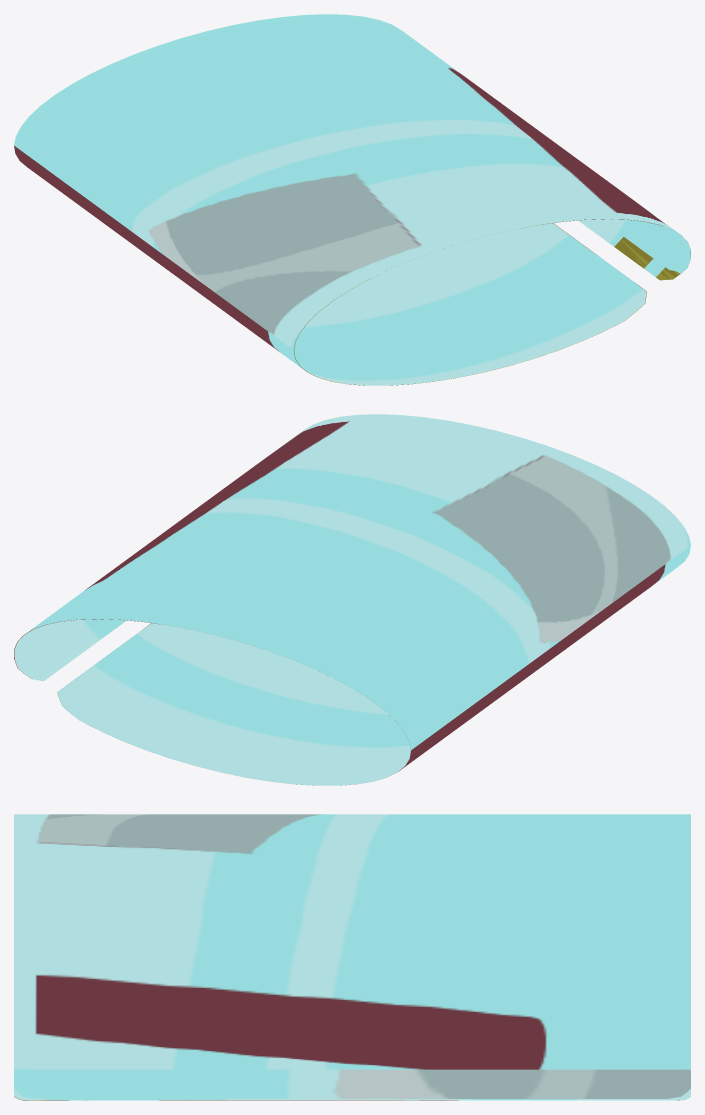
Rendered from Level 125.fbx.
The picture shows the model from 3 angles, top to bottom: view 1: azimuth 30°, elevation 25°; view 2: azimuth 150°, elevation 25°; view 3: azimuth 270°, elevation 25°; orthographic projection. The views are drawn at different scales.
Visible parts, largest first — view 1: door; view 2: door; view 3: door.
Boxes of the visible parts, x1,y1,x2,y2 form: door: (14,14,690,385); door: (14,414,690,785); door: (14,814,690,1100).
Size of what is drawn, in the model's own units: 736 by 241 by 898.
